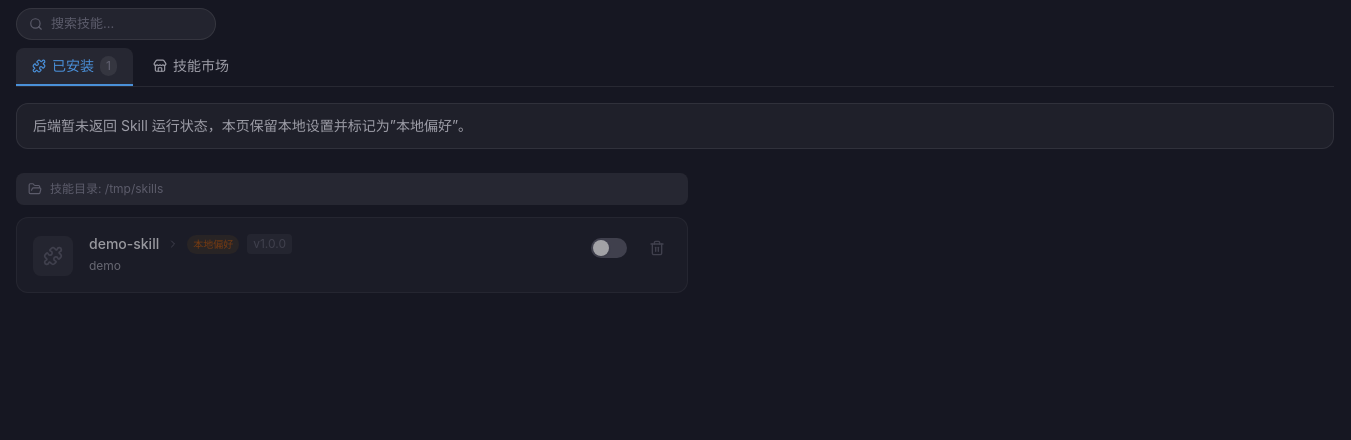
SkillsView › keeps local disabled state when backend does not return enabled and can re-enable it
Click the button "demo-skill". click: {"x": 124, "y": 244}
box: [89,234,159,254]
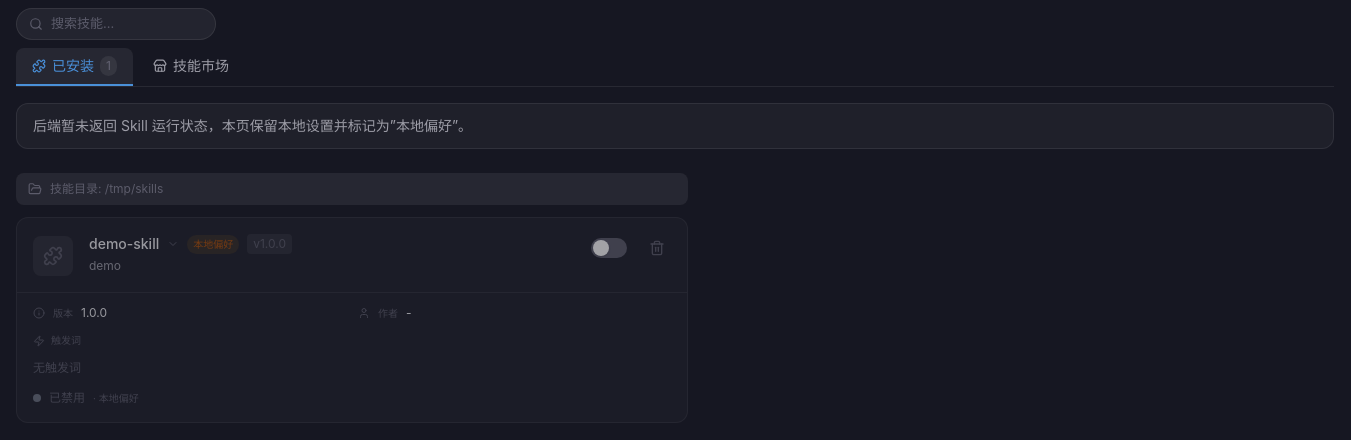
expect the text "已禁用" is shown: met, box [49,390,85,406]
Click the button named "启用技能". click: {"x": 609, "y": 248}
box: [591,238,627,258]
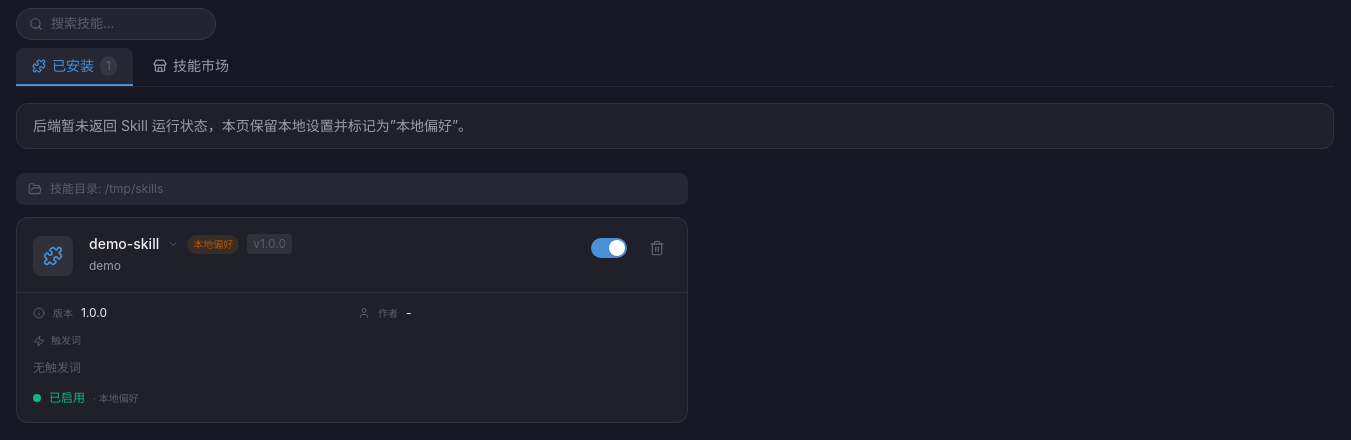
expect the text "本地偏好" is shown: met, box [33,117,472,134]
expect the text "已启用" is shown: met, box [49,390,85,406]
